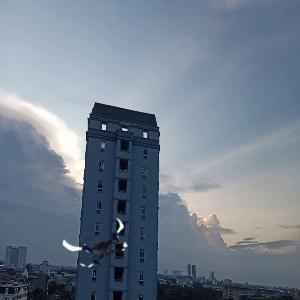drone: (71, 213, 135, 277)
